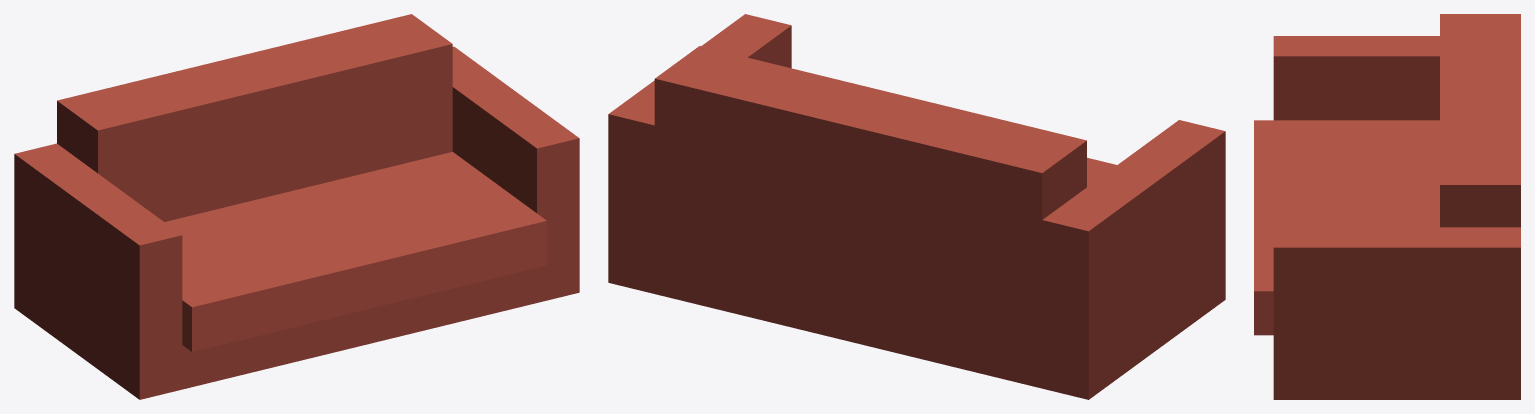
Rendered from SO_Couch_04.fbx.
The picture shows the model from 3 angles, left to right: view 1: azimuth 30°, elevation 25°; view 2: azimuth 150°, elevation 25°; view 3: azimuth 270°, elevation 25°; orthographic projection. The views are drawn at different scales.
Parts seen in each view (by area): view 1: SO_Couch_04; view 2: SO_Couch_04; view 3: SO_Couch_04.
Part boxes in pixels (bbox=[...]): SO_Couch_04: bbox=[14, 14, 579, 399]; SO_Couch_04: bbox=[608, 14, 1225, 399]; SO_Couch_04: bbox=[1254, 14, 1520, 399].
Bounding box in the file's own units: 2.88 × 1.23 × 1.53.
